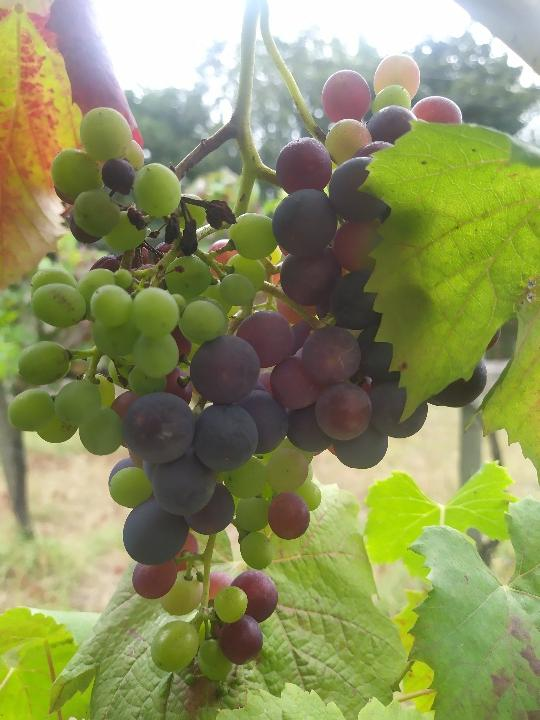grape: (5, 50, 503, 685)
